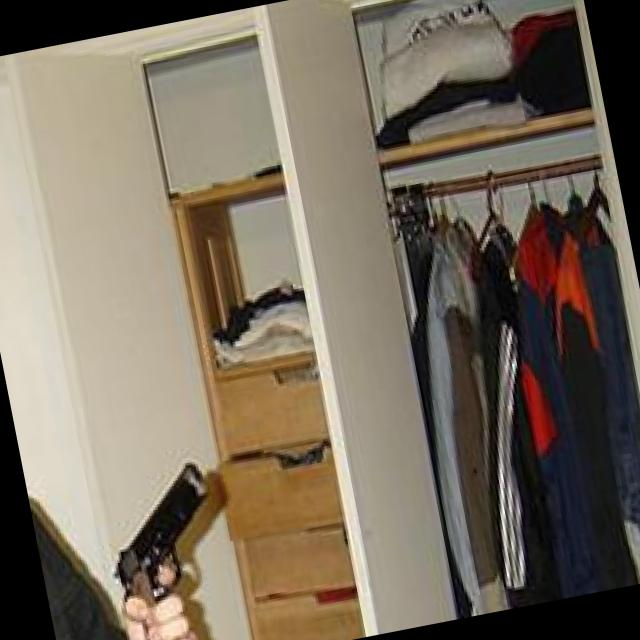Guns: (71, 426, 273, 640), (46, 587, 76, 640)
